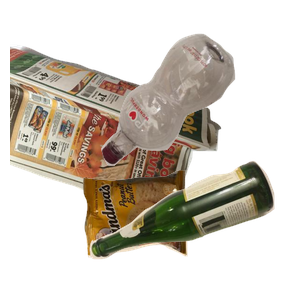glass: (87, 158, 300, 300)
paper: (10, 42, 224, 222)
plastic: (99, 31, 300, 189)
trash: (81, 168, 261, 300)
